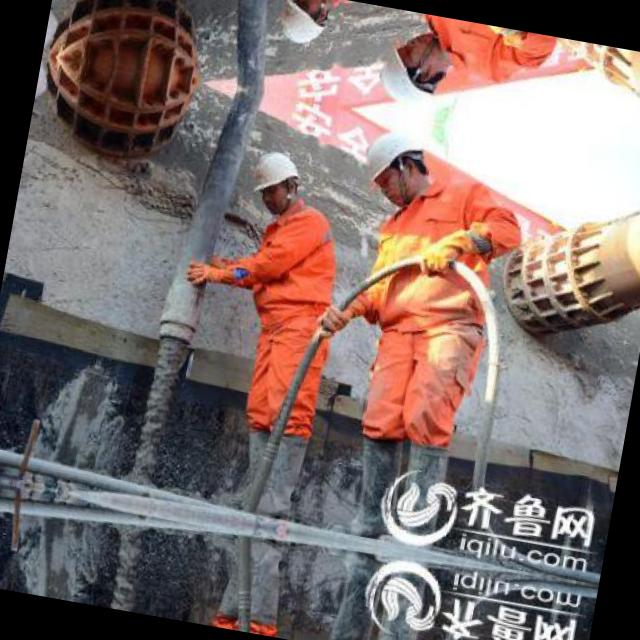helmet: (346, 121, 451, 217), (364, 20, 468, 116), (241, 142, 309, 216), (268, 0, 336, 54)
